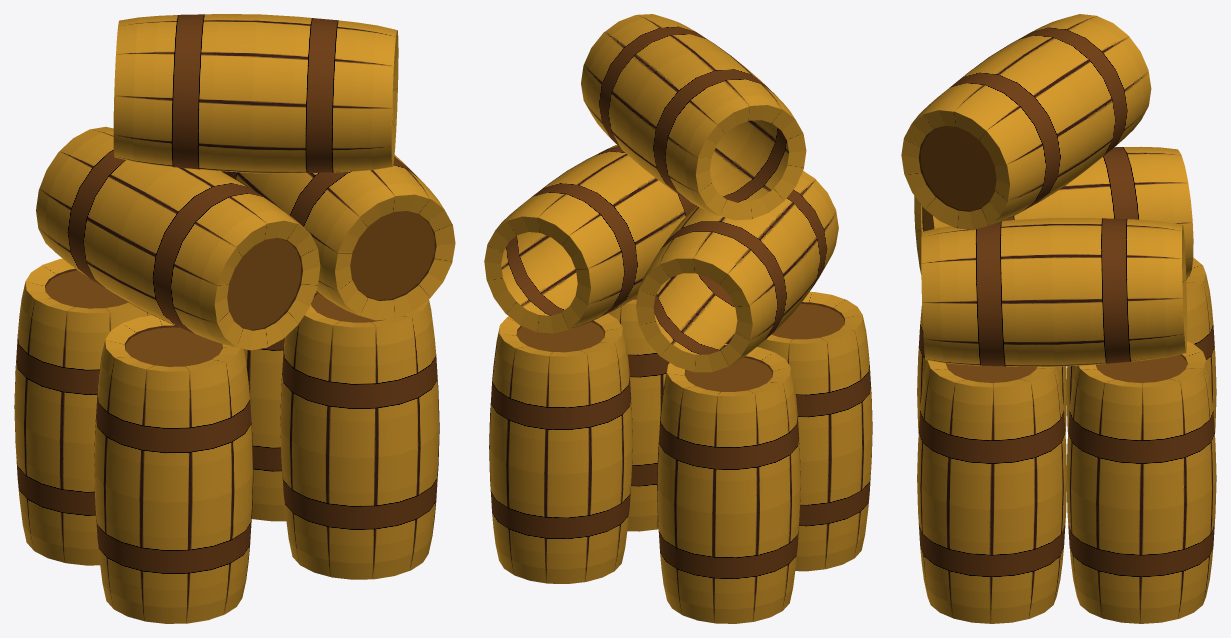
Rendered from barrel03.FBX.
The picture shows the model from 3 angles, left to right: view 1: azimuth 30°, elevation 25°; view 2: azimuth 150°, elevation 25°; view 3: azimuth 270°, elevation 25°; orthographic projection. The views are drawn at different scales.
Parts seen in each view (by area): view 1: Line009, Line001, Line005, Line006, Line007, Line004, Cylinder008, Line008, Cylinder012, Cylinder002, Cylinder016, Cylinder010; view 2: Line007, Line008, Line009, Line006, Line004, Line001, Line005, Cylinder016, Cylinder002, Cylinder014; view 3: Line004, Line008, Line005, Line009, Line006, Cylinder018, Line007, Cylinder014, Cylinder010, Line001.
Part boxes in pixels (x1,y1,x2,y2): Line009: (113, 14, 398, 173); Line001: (94, 315, 253, 623); Line005: (280, 291, 439, 579); Line006: (36, 126, 320, 350); Line007: (14, 258, 152, 565); Line004: (222, 155, 455, 320); Cylinder008: (350, 211, 434, 299); Line008: (244, 338, 286, 521); Cylinder012: (227, 238, 300, 329); Cylinder002: (125, 327, 222, 366); Cylinder016: (46, 270, 128, 308); Cylinder010: (312, 293, 384, 322); Line007: (657, 344, 800, 623); Line008: (489, 313, 632, 583); Line009: (581, 14, 806, 220); Line006: (636, 171, 838, 372); Line004: (484, 145, 696, 333); Line001: (757, 291, 872, 571); Line005: (608, 299, 669, 531); Cylinder016: (685, 357, 772, 391); Cylinder002: (771, 303, 843, 339); Cylinder014: (517, 322, 604, 352); Line004: (921, 218, 1187, 366); Line008: (1066, 341, 1216, 623); Line005: (917, 360, 1066, 623); Line009: (901, 14, 1151, 229); Line006: (914, 146, 1193, 277); Cylinder018: (920, 126, 996, 210); Line007: (1066, 257, 1216, 432); Cylinder014: (1096, 354, 1186, 382); Cylinder010: (946, 363, 1036, 382); Line001: (917, 306, 1066, 433).
Bounding box in the file's own units: 1888 × 2974 × 1688.
Materials: 3 (1 with a texture image).
